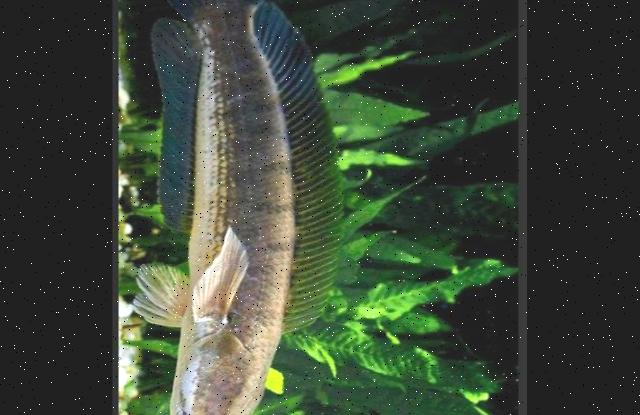Mulut: (166, 385, 222, 415)
Sirip Anal: (144, 13, 212, 240)
Sirip Dada: (180, 214, 258, 340)
Sirip Ekor: (126, 0, 299, 40)
Sirip Perut: (121, 255, 198, 338)
Sirip Punggung: (235, 0, 356, 339)
